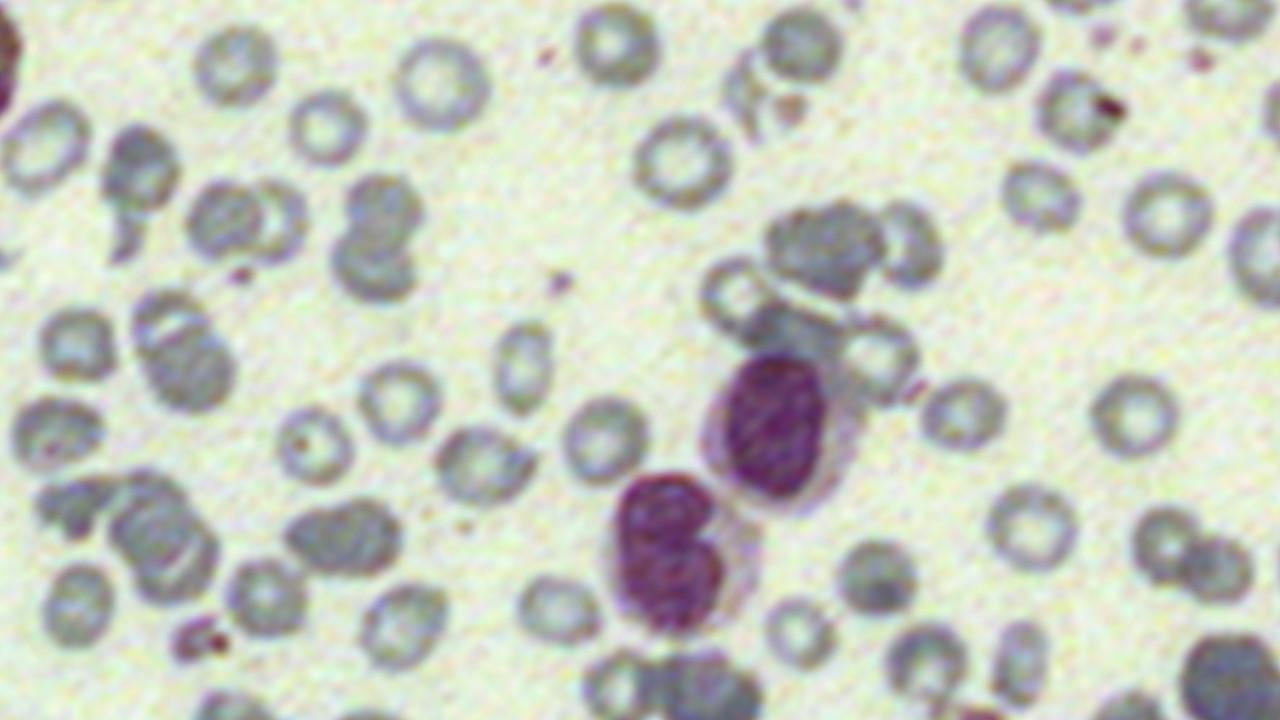RBC: (624, 106, 740, 218), (384, 31, 498, 138), (976, 476, 1086, 580), (2, 92, 97, 203), (140, 319, 241, 421), (568, 0, 668, 98), (350, 352, 447, 452), (877, 614, 970, 711), (268, 396, 360, 492), (221, 549, 310, 645), (181, 166, 264, 268), (235, 169, 315, 273), (1124, 496, 1206, 594), (1221, 190, 1279, 322), (1252, 63, 1280, 185)
WBC: (699, 348, 868, 519), (597, 468, 765, 639)
